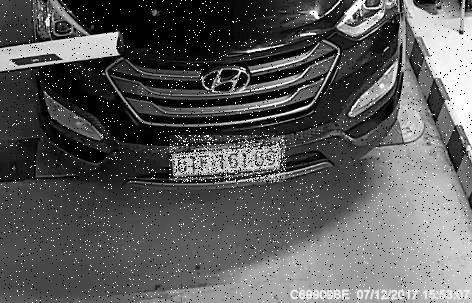License-plate: (171, 136, 288, 183)
